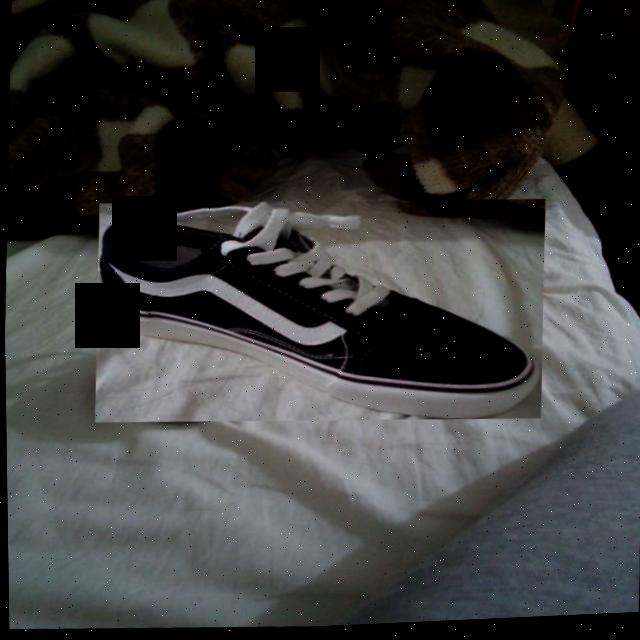shoe: (91, 189, 547, 438)
